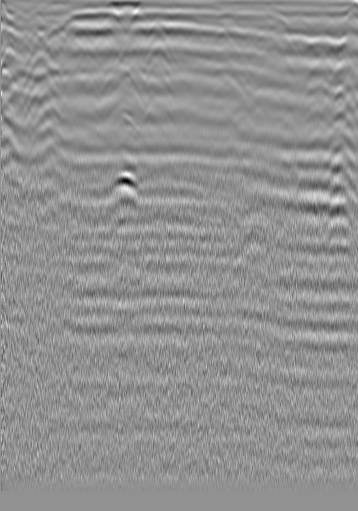가스: (105, 167, 145, 202)
상수: (29, 31, 49, 51)
오수: (301, 39, 321, 59)
우수: (156, 38, 176, 58)
